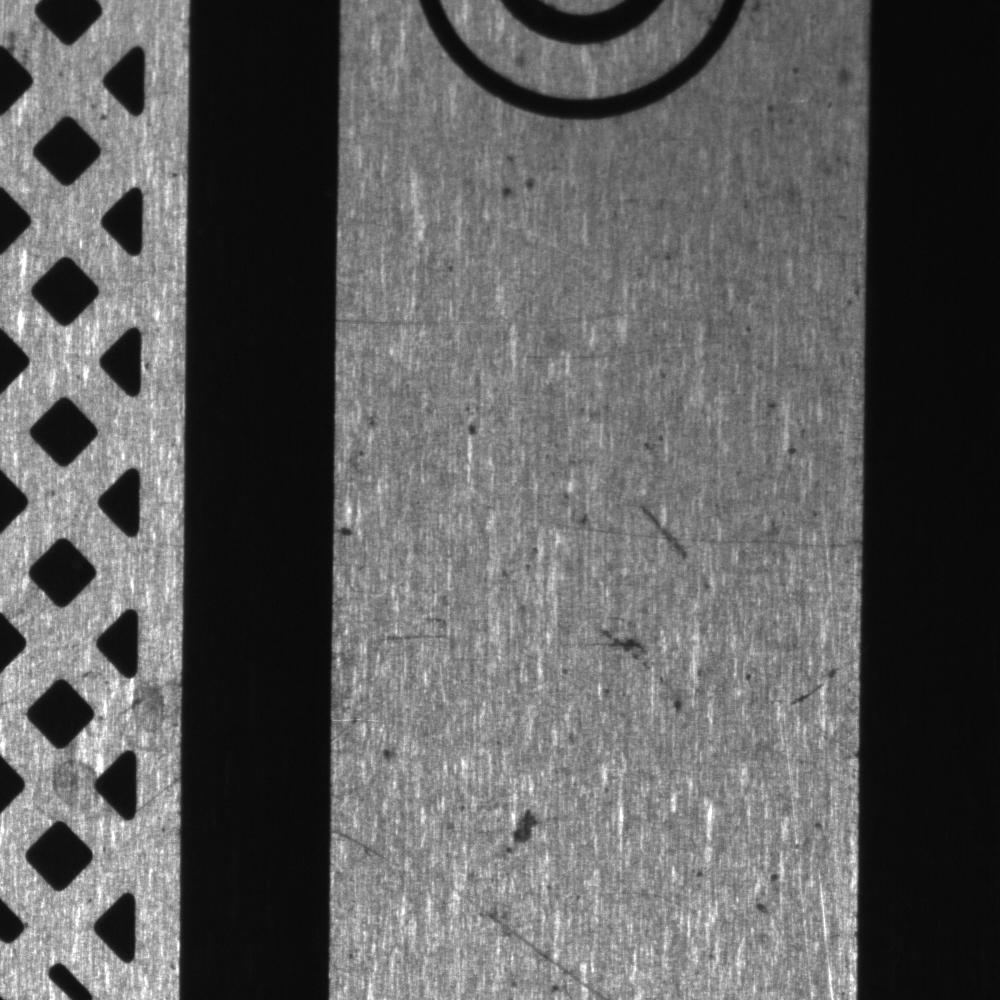Discolor: (102, 675, 180, 758), (34, 757, 113, 821)
Etching: (591, 607, 720, 720), (749, 811, 833, 925), (335, 404, 385, 547), (479, 129, 560, 209), (498, 794, 574, 873), (767, 390, 813, 470), (445, 393, 508, 450)
Pinhole: (367, 730, 417, 778)
Scar: (448, 878, 612, 997), (551, 515, 861, 557), (520, 326, 734, 376), (775, 656, 856, 716), (516, 638, 591, 700), (338, 309, 472, 342), (331, 820, 408, 874), (363, 619, 457, 655), (134, 771, 177, 819)
